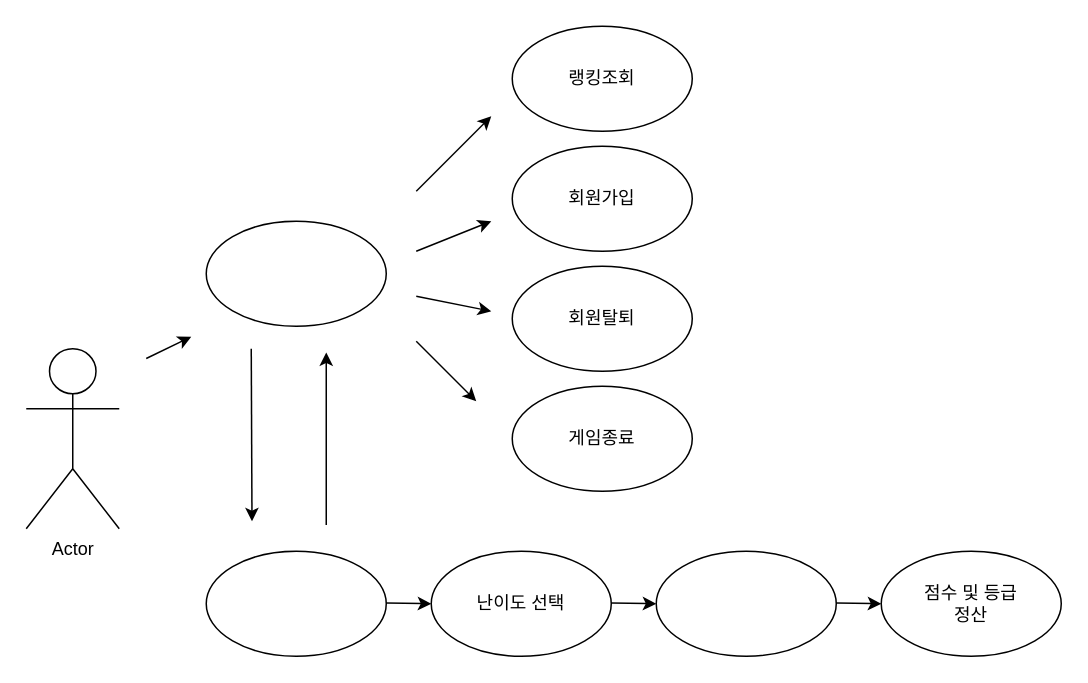
Some shapes in this 1088 by 683 pixel diagram are drawn without their labels. The box of each missing label's shape, as (x1, y1, x2, y2) in pixels:
로그인: (205, 550, 386, 656)
메인페이지: (205, 220, 386, 326)
행맨 게임: (655, 550, 836, 656)
